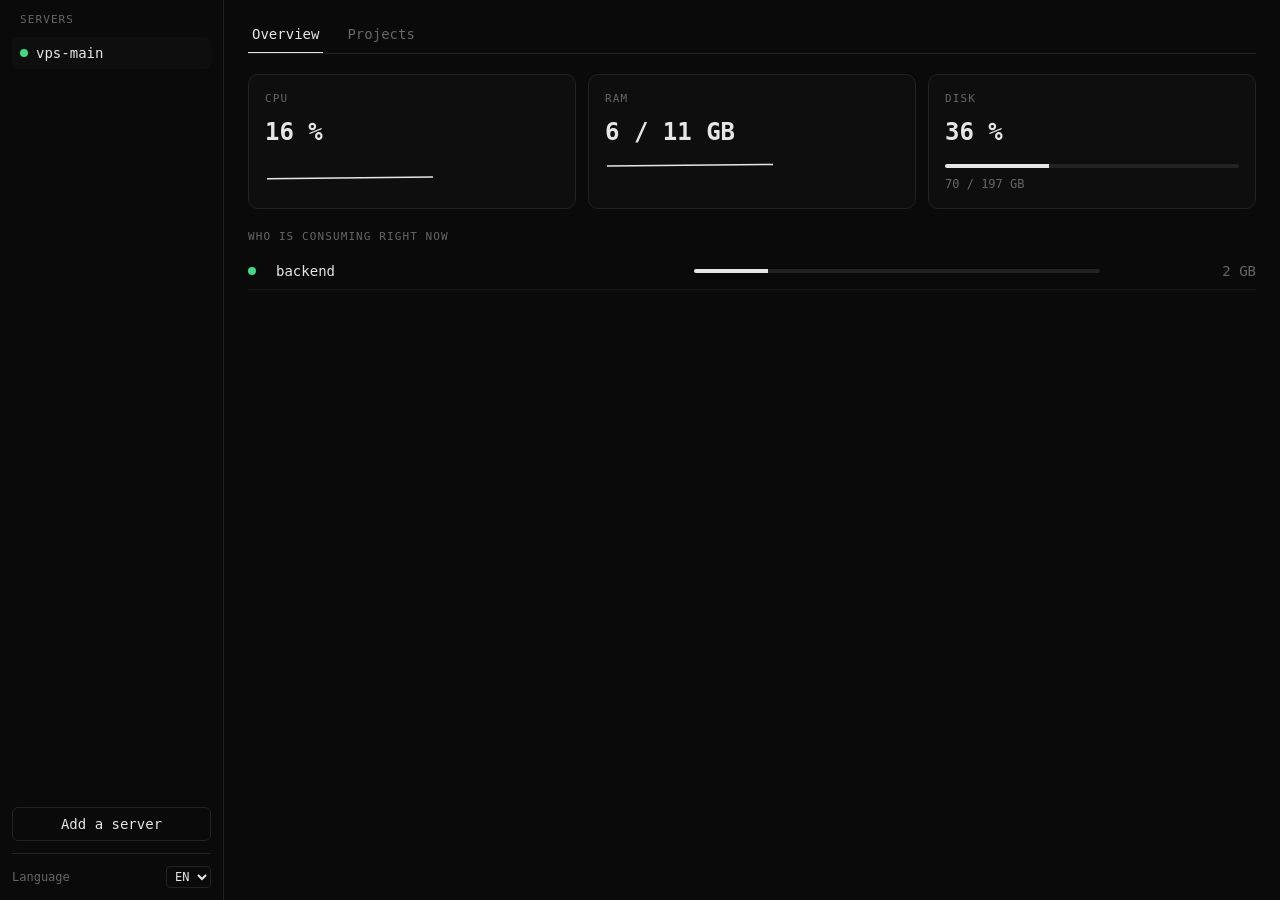
Scenario: App › names the server and the containers in the restart confirmation
This screenshot has width=1280, height=900.
Expected: the text "vps-main" is shown, [36, 42, 103, 62]
Click the text "backend" at (306, 271), box [276, 263, 335, 279]
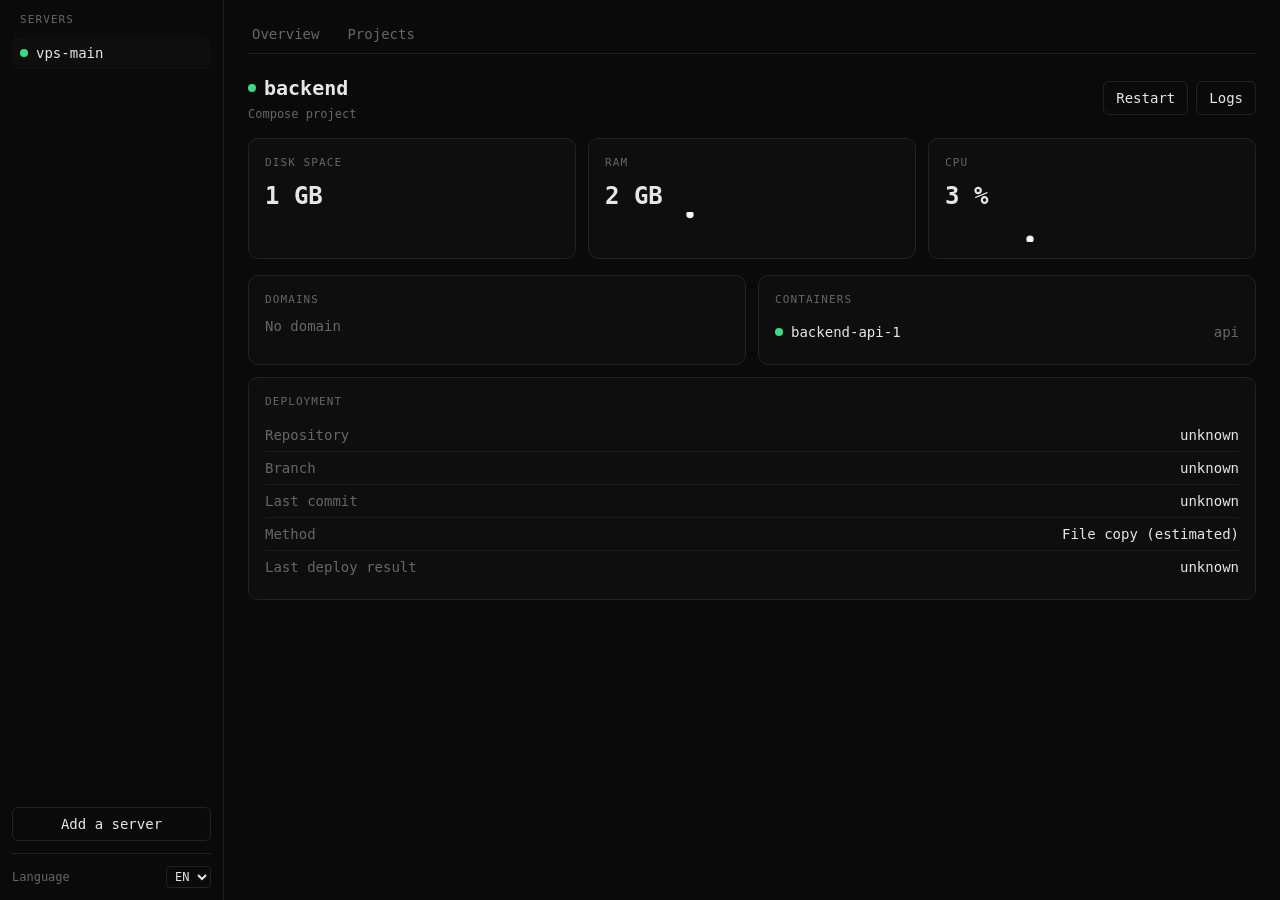
Click the button "Restart" at (1146, 98), box [1103, 81, 1188, 115]
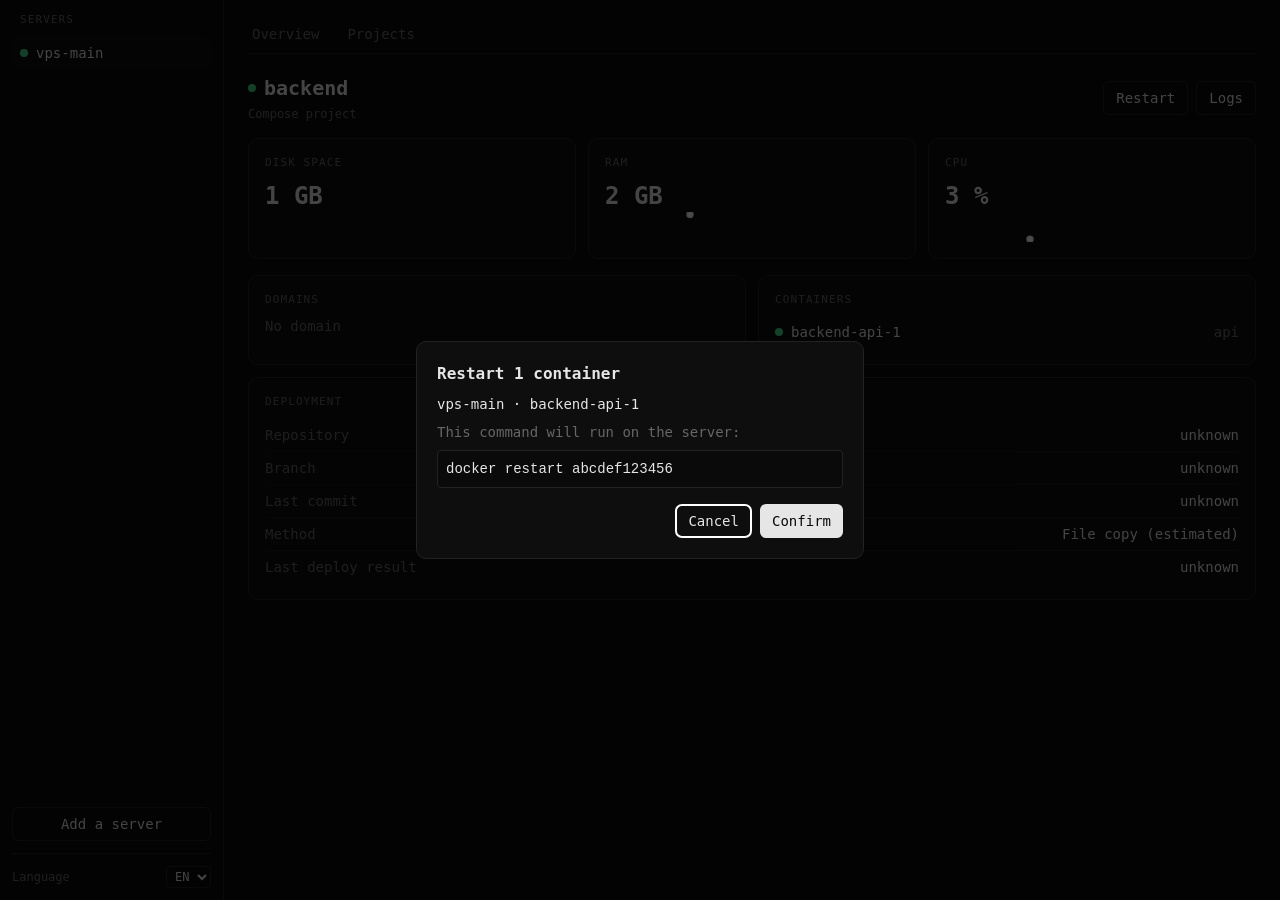
Result: the text "vps-main · backend-api-1" is shown at [437, 396, 639, 412]
